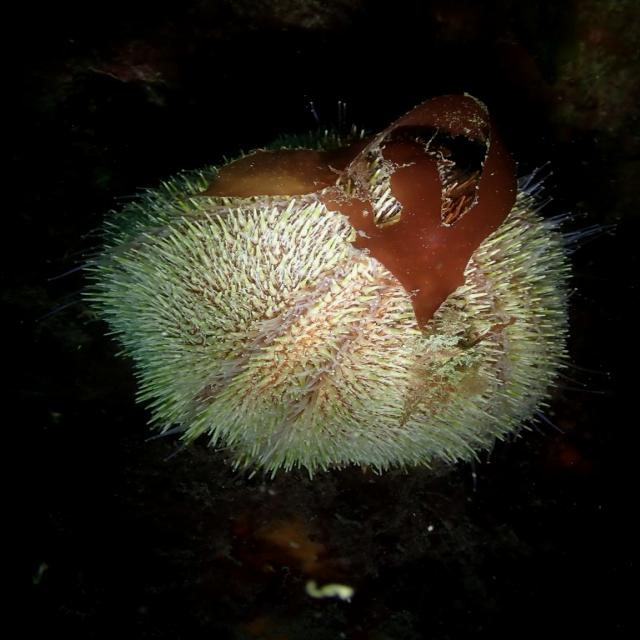Deniz Kestanesi: (46, 98, 614, 486)
